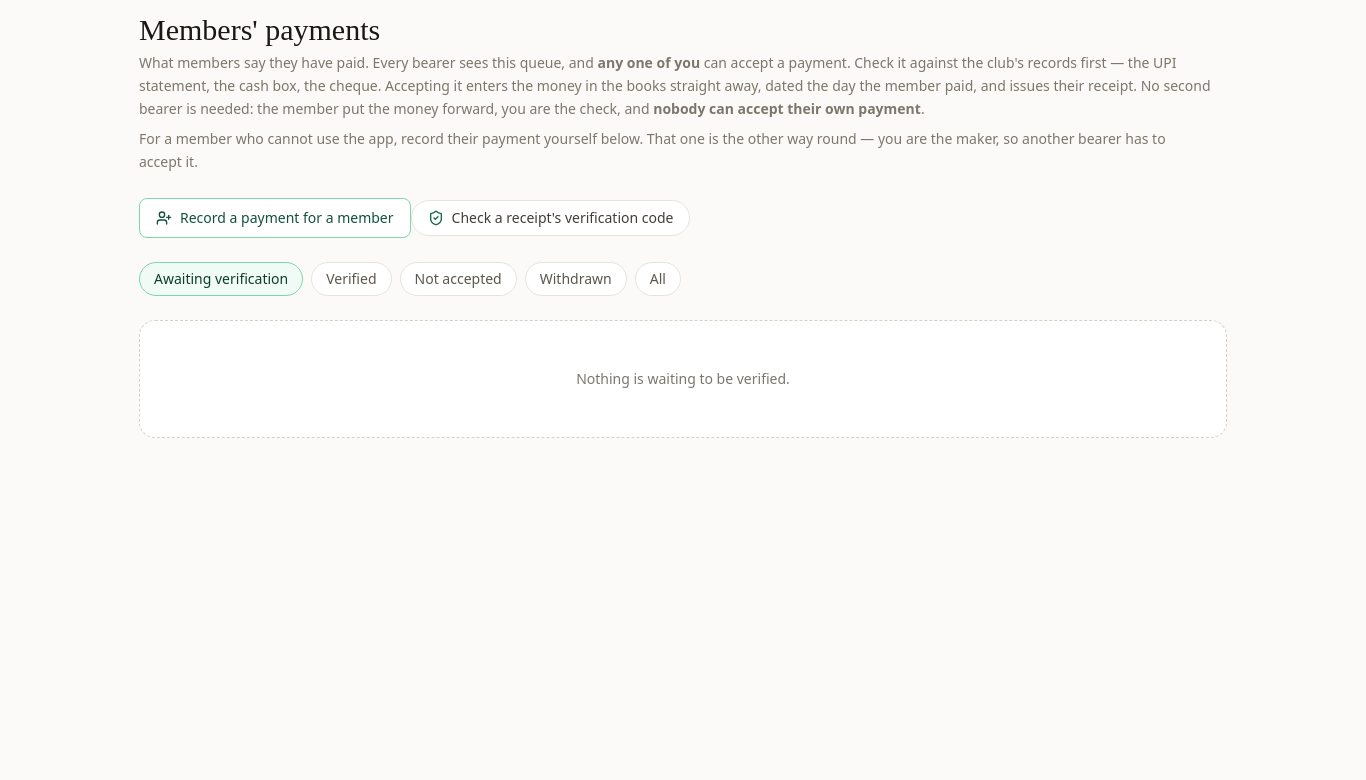
Test: recording a payment for a member › says up front that somebody else has to accept it
Click the button "Record a payment for a member": (275,218) [139,198,410,238]
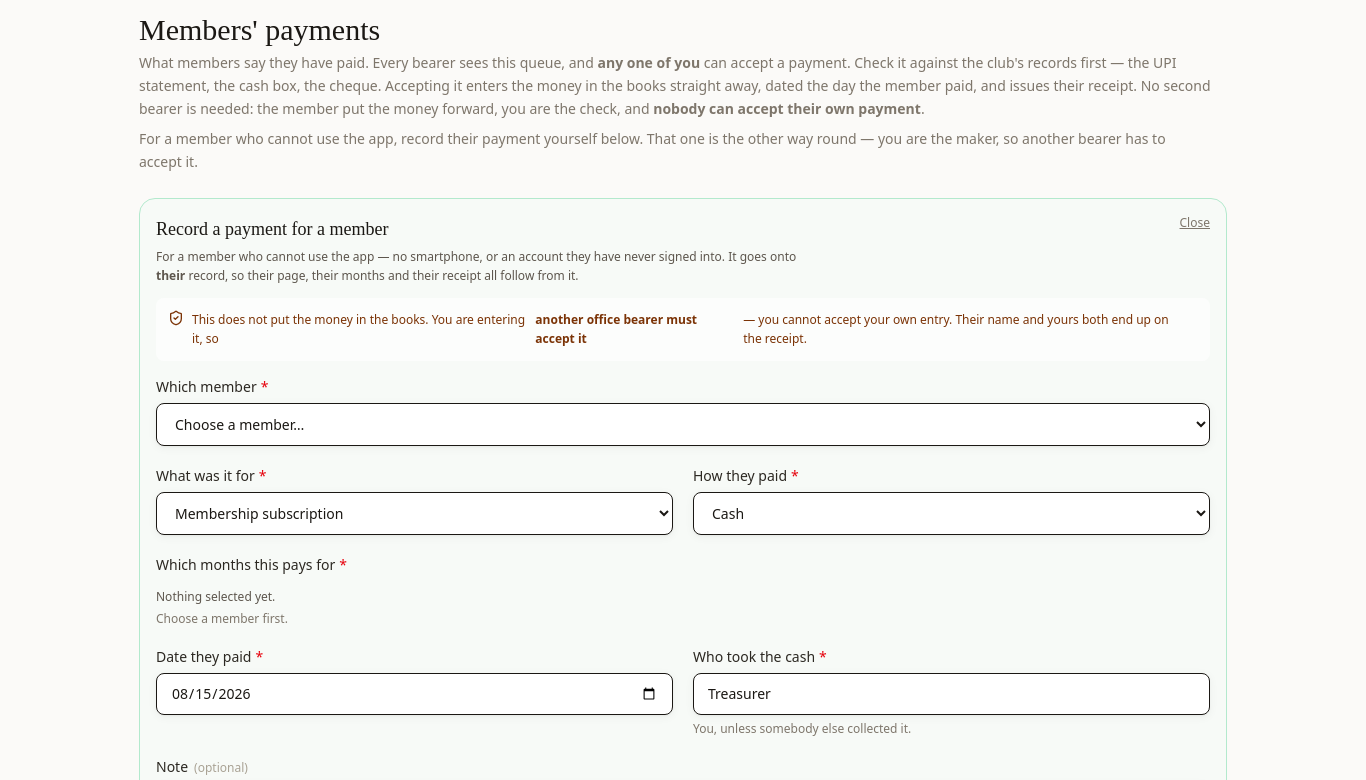
Now the text "another office bearer must accept it" is shown, box [535,311,697,347]
